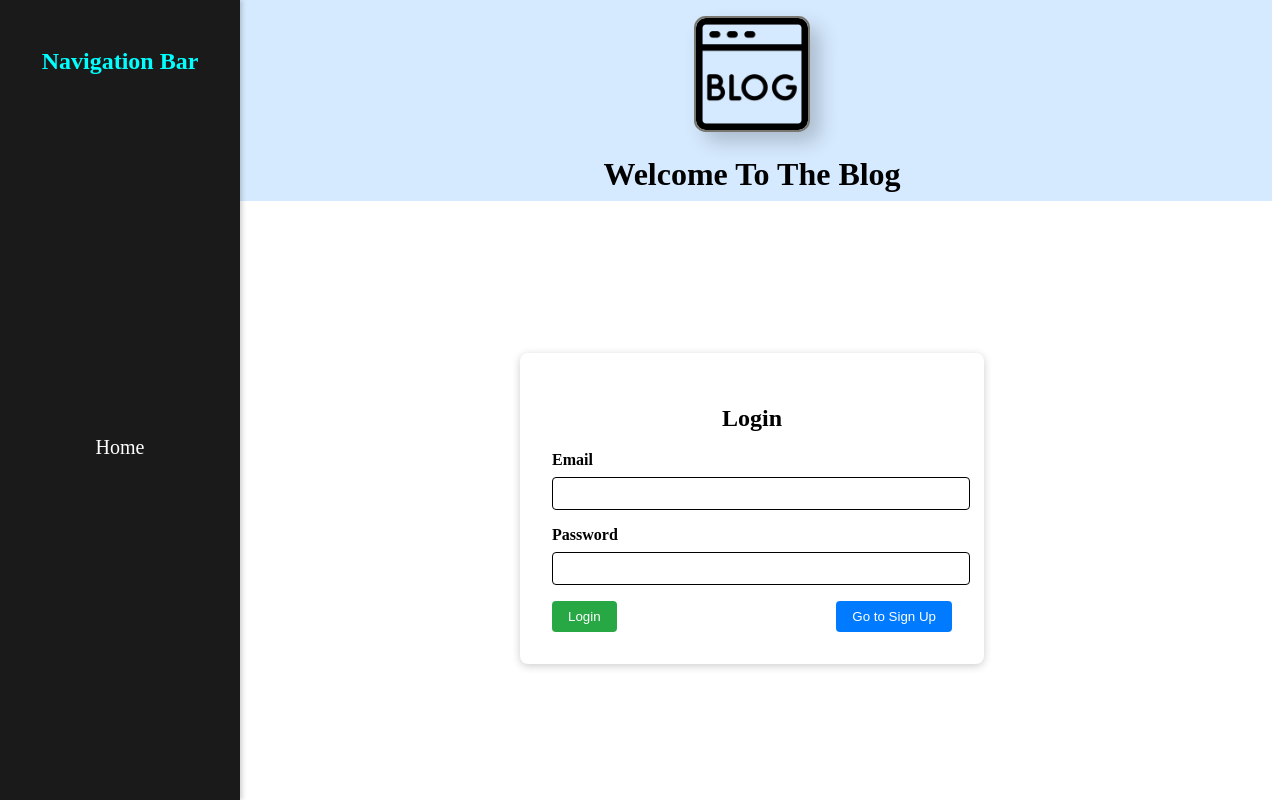
Scenario: UserForm Component - Login Mode › shows error message on failed login
In the field labelled "Email": {"x": 761, "y": 494} [552, 477, 970, 510], type "wrong@example.com"
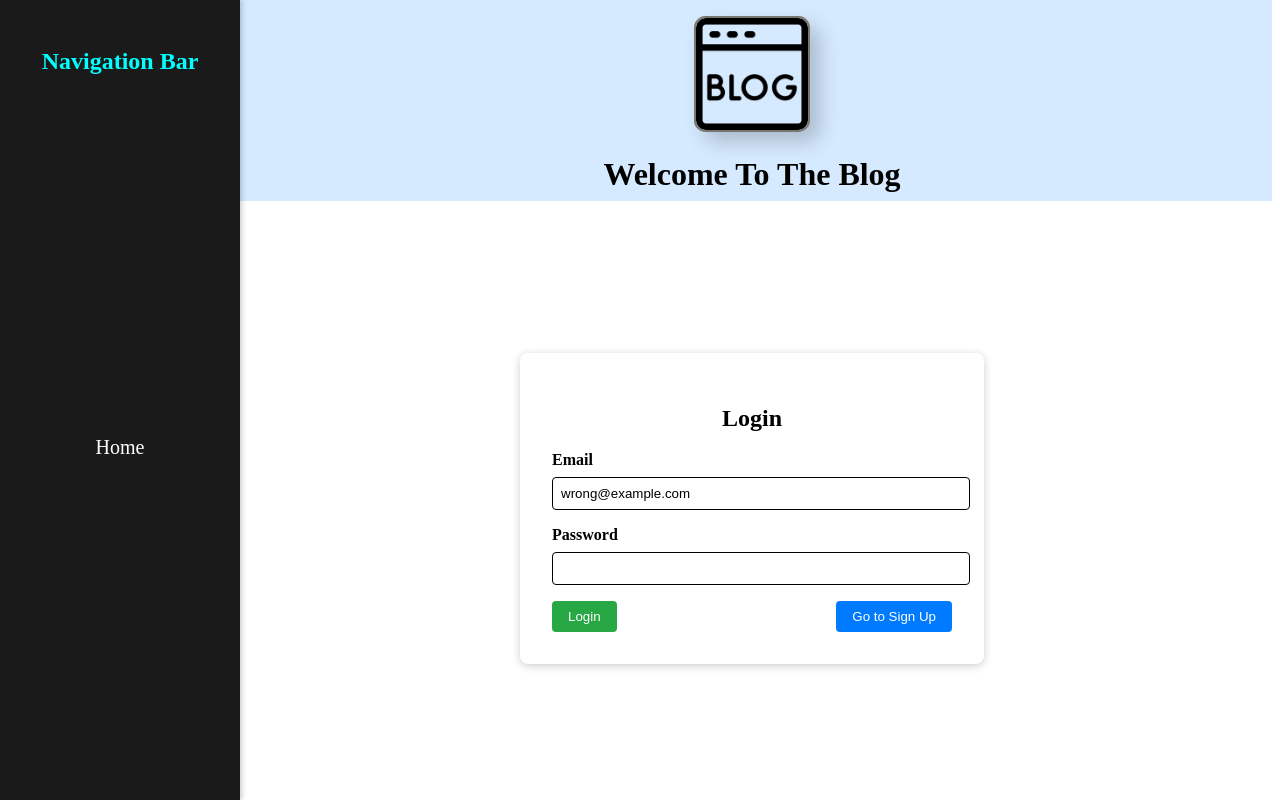
In the password field labelled "Password": {"x": 761, "y": 569} [552, 552, 970, 585], type "wrongpass"
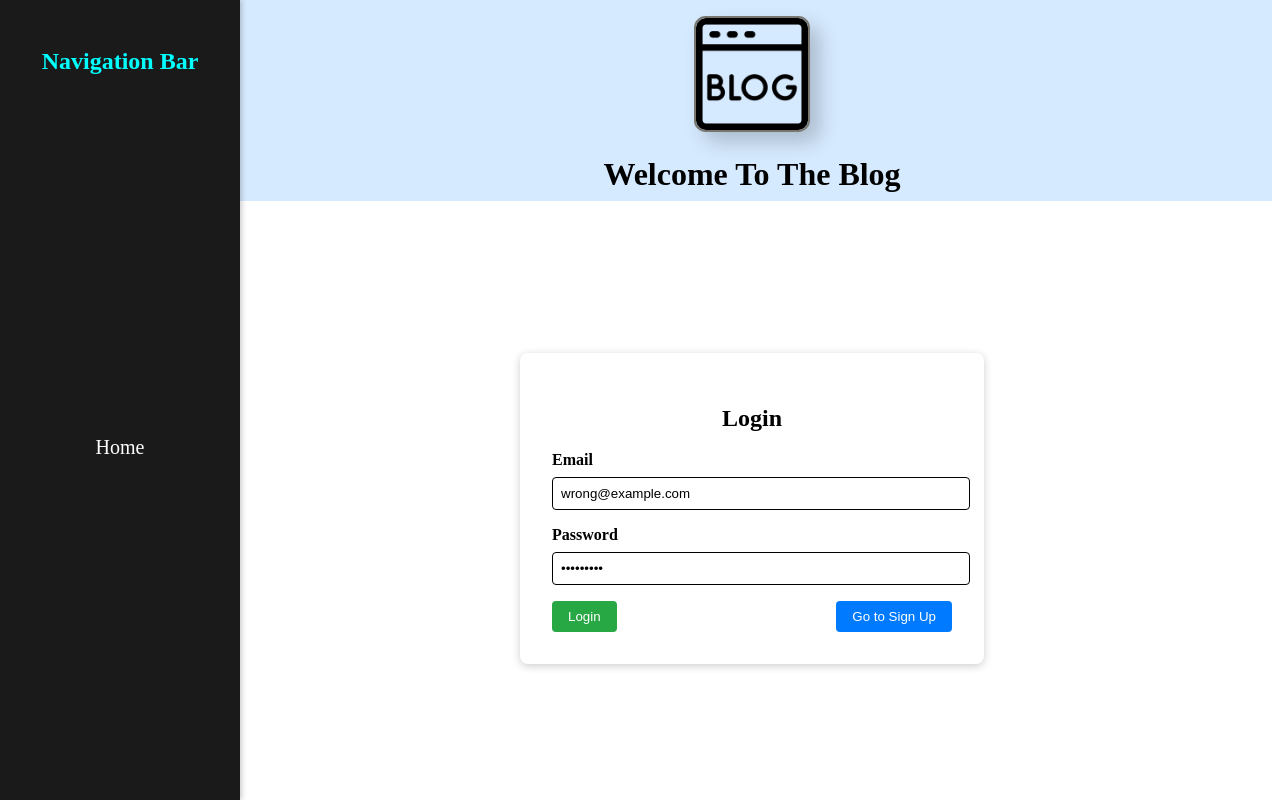
Click the button "Login": {"x": 584, "y": 617} [552, 601, 617, 632]
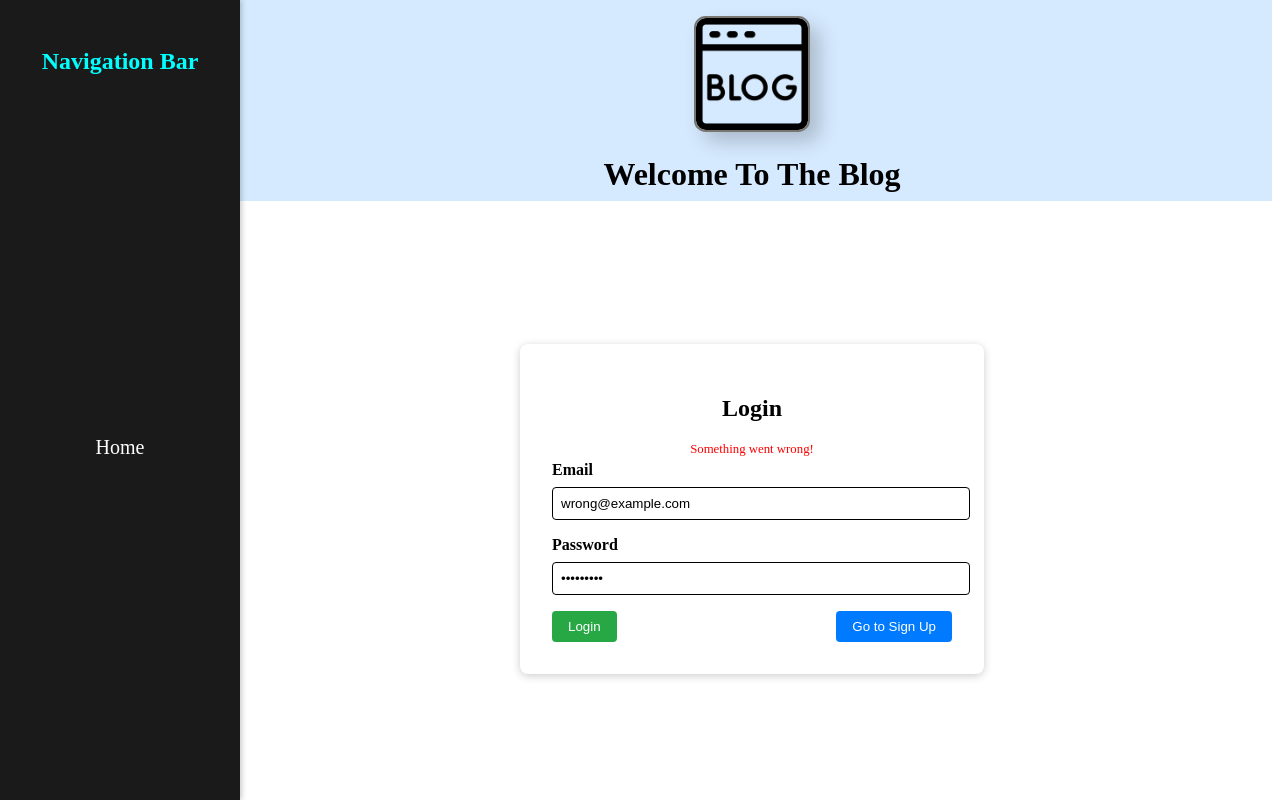
expect the text "Something went wrong!" is shown: met, box [690, 442, 814, 456]
